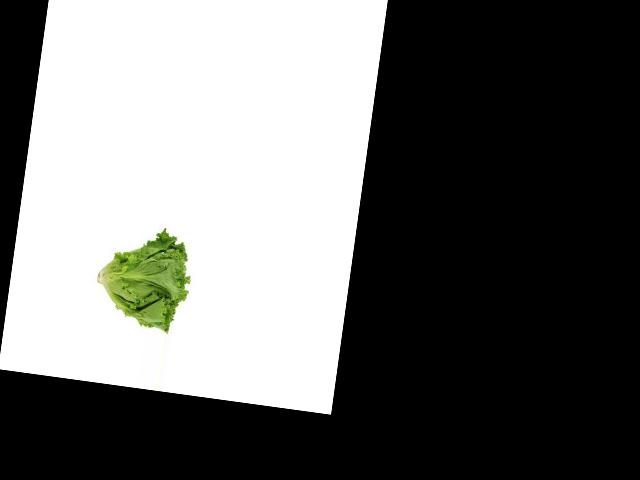lettuce: (77, 223, 200, 336)
